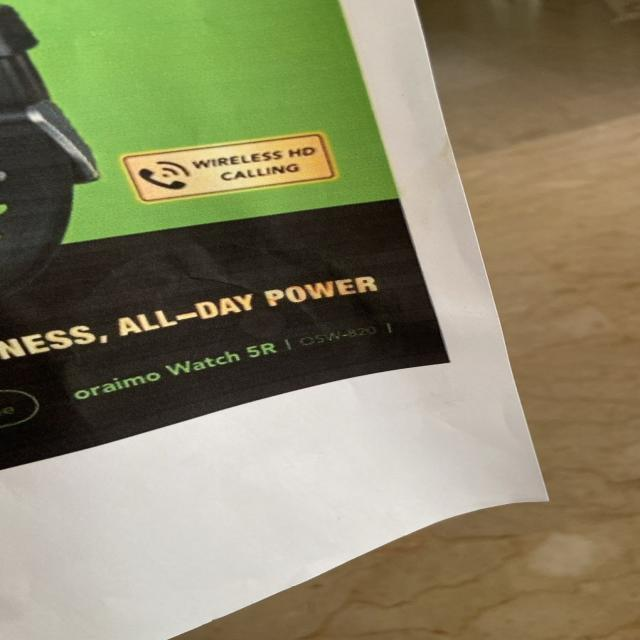Oraimo Watch 5R OSW-820: (73, 319, 398, 406)
